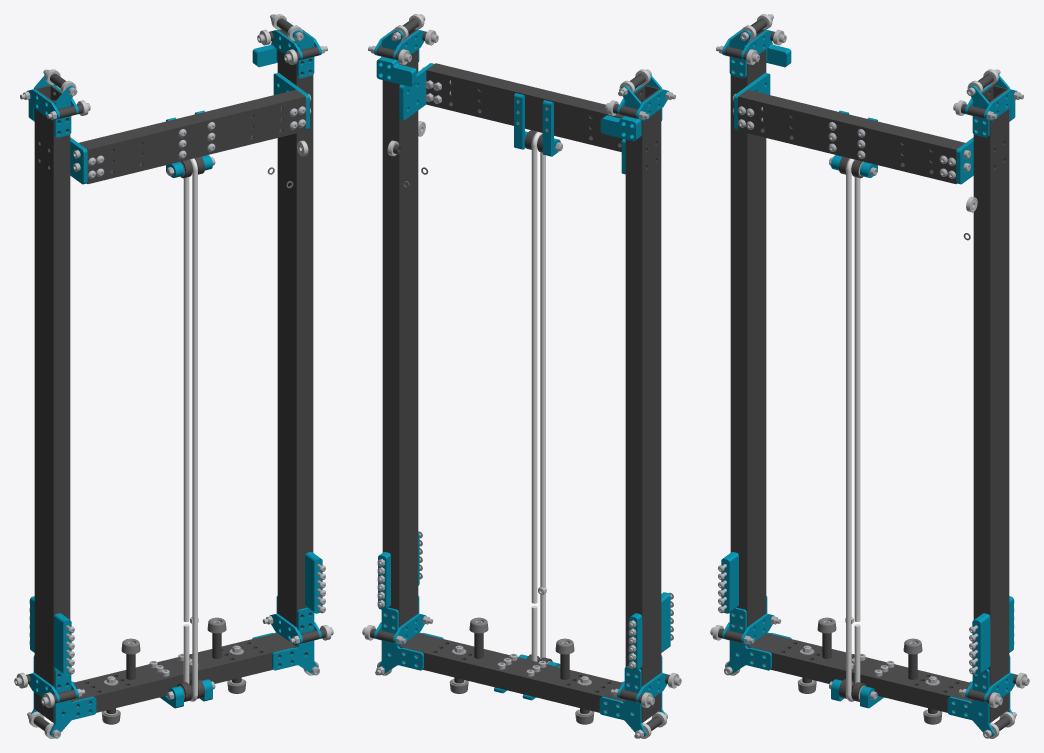
3 renders of one model, left to right at view 1: azimuth 30°, elevation 25°; view 2: azimuth 150°, elevation 25°; view 3: azimuth 330°, elevation 25°, orthographic.
Visible parts, largest first — view 1: Elevator Stage 1, rope; view 2: Elevator Stage 1, rope; view 3: Elevator Stage 1, rope.
Boxes of the visible parts, x1=… form: Elevator Stage 1: x1=26, y1=17, x2=325, y2=737; rope: x1=183, y1=158, x2=197, y2=701; Elevator Stage 1: x1=370, y1=17, x2=670, y2=737; rope: x1=531, y1=131, x2=545, y2=661; Elevator Stage 1: x1=718, y1=17, x2=1017, y2=737; rope: x1=846, y1=158, x2=860, y2=701.
Size of the model in its own units: 0.351 by 0.7635 by 0.0872.
